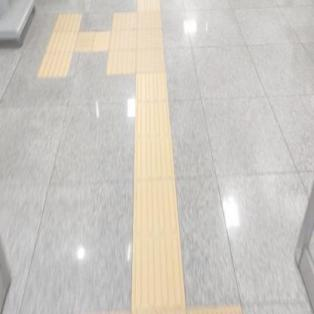Podoctatil: (131, 73, 188, 309), (99, 0, 179, 91), (41, 16, 84, 72), (80, 30, 109, 49)
